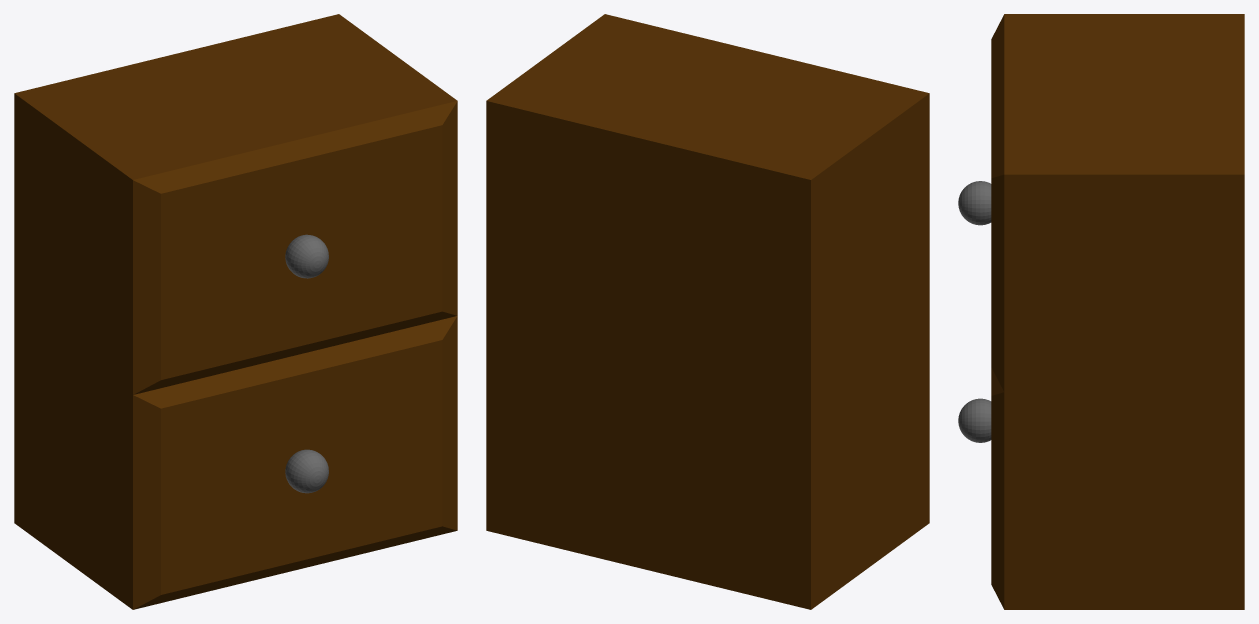
The model's file is drawer.fbx.
3 views of the same model, side by side, from view 1: azimuth 30°, elevation 25°; view 2: azimuth 150°, elevation 25°; view 3: azimuth 270°, elevation 25° (orthographic).
Visible parts, largest first — view 1: Cube; view 2: Cube; view 3: Cube.
Boxes of the visible parts, x1,y1,x2,y2 form: Cube: [14, 14, 457, 609]; Cube: [486, 14, 929, 609]; Cube: [958, 14, 1244, 609].
Size of the model in its own units: 316 by 400 by 238.
